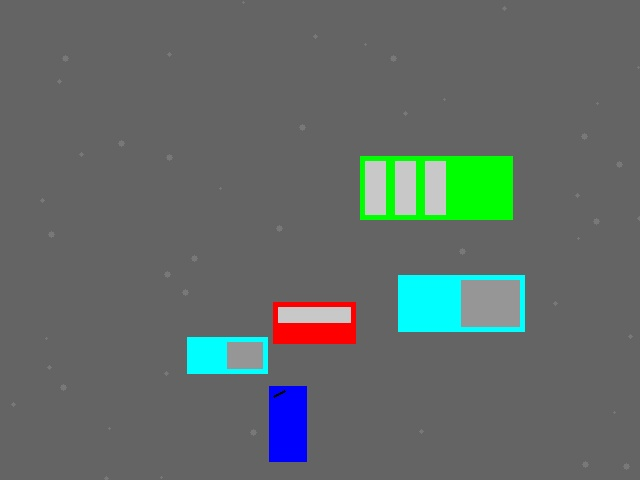bus: (360, 156, 512, 219)
car: (273, 302, 355, 343)
motorcycle: (269, 386, 306, 461)
truck: (398, 275, 524, 331), (187, 337, 267, 373)
